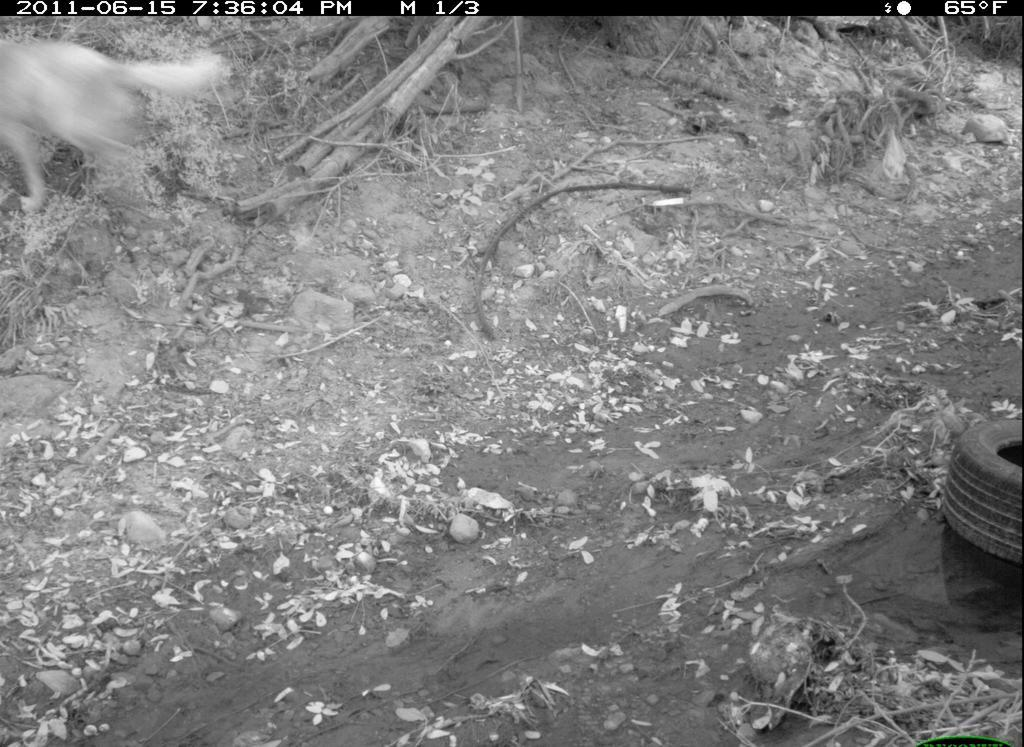dog: (2, 29, 254, 228)
